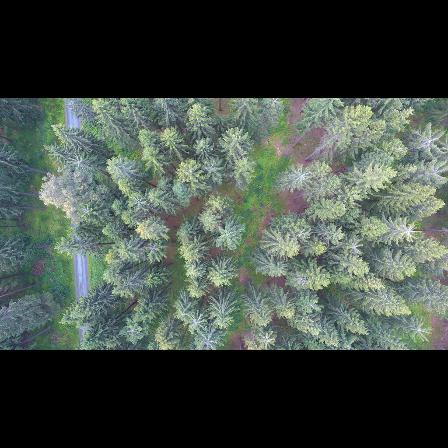Sick: (410, 126, 446, 158), (66, 148, 94, 171), (398, 218, 422, 243), (289, 164, 313, 188)
